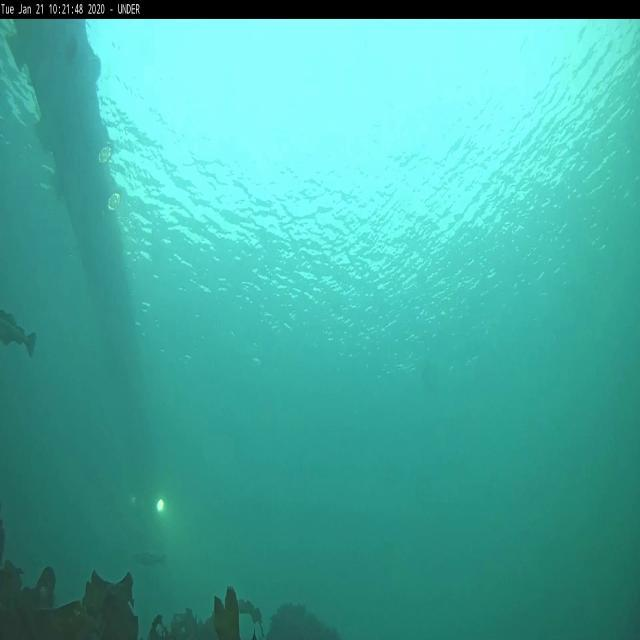fish: (0, 306, 38, 360), (131, 548, 166, 571)
